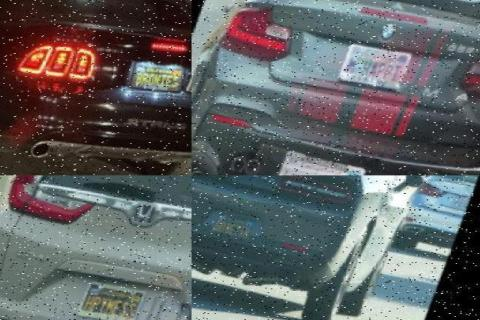LicensePlate: (342, 36, 416, 86), (81, 277, 151, 320), (132, 55, 189, 86), (213, 206, 260, 239)
